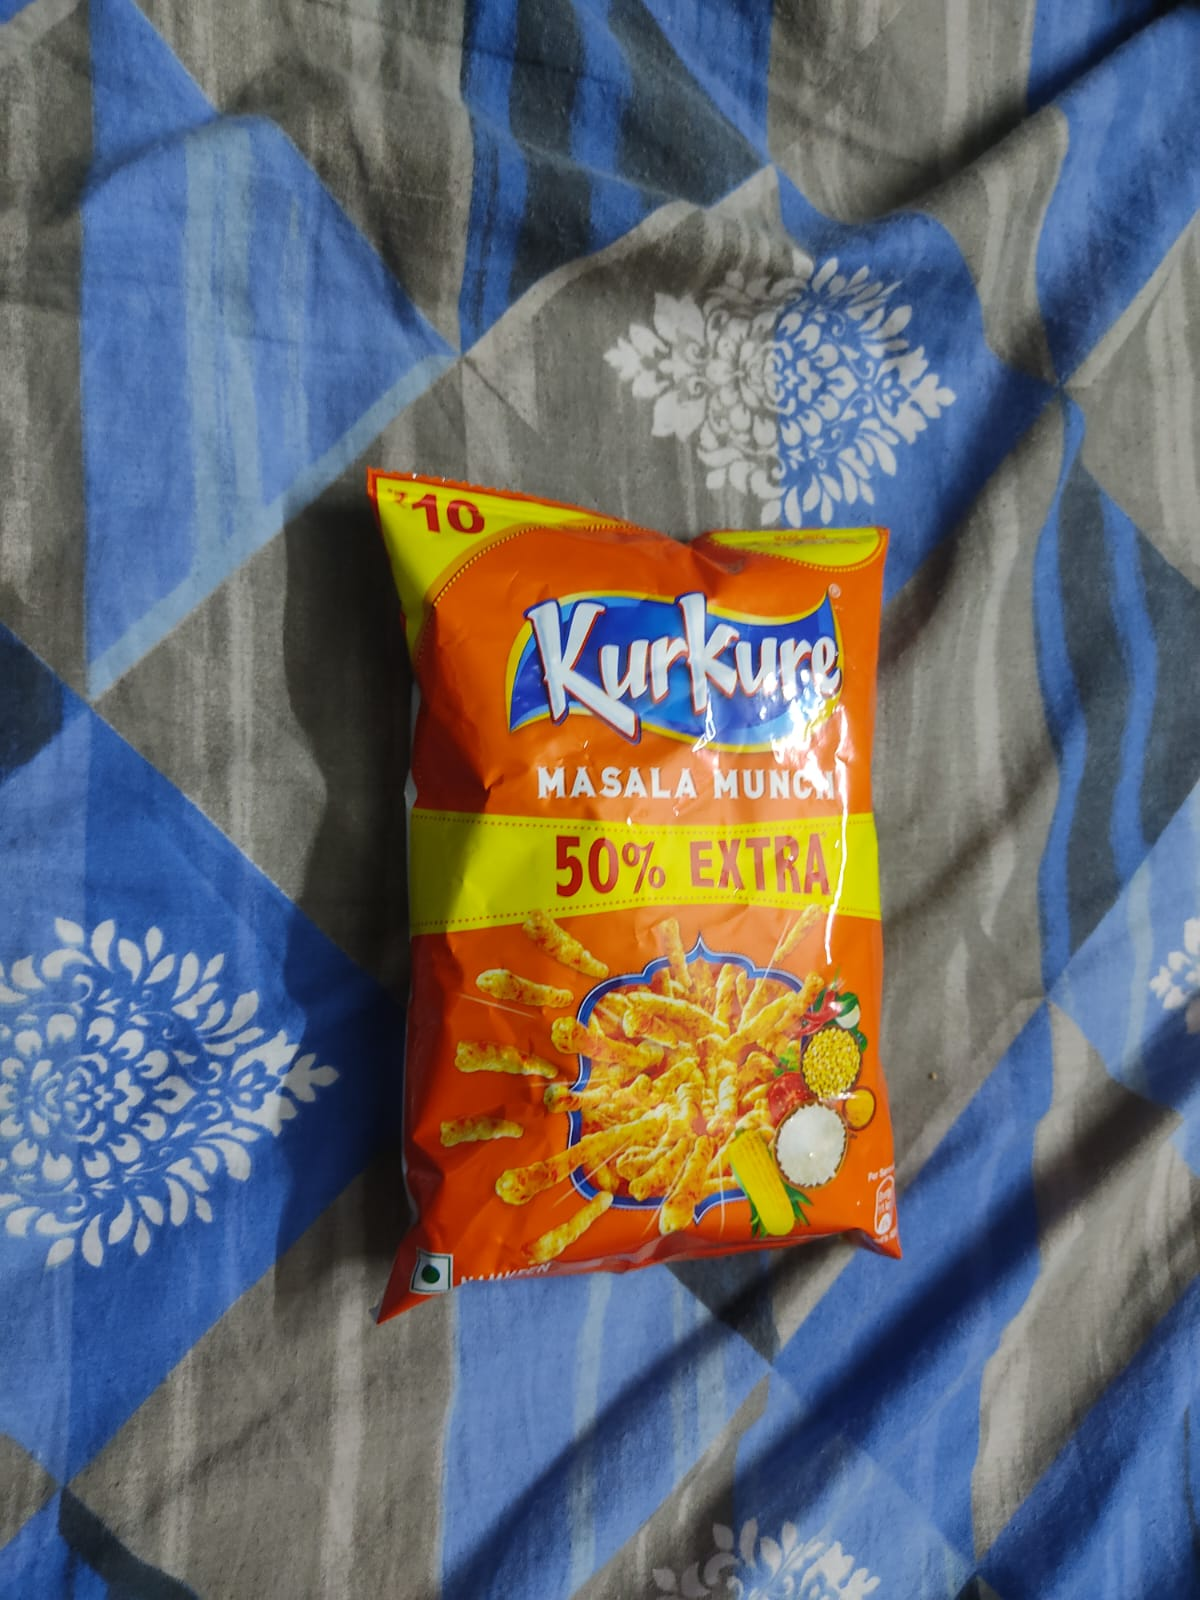010_Kurkure: (372, 474, 903, 1249)
